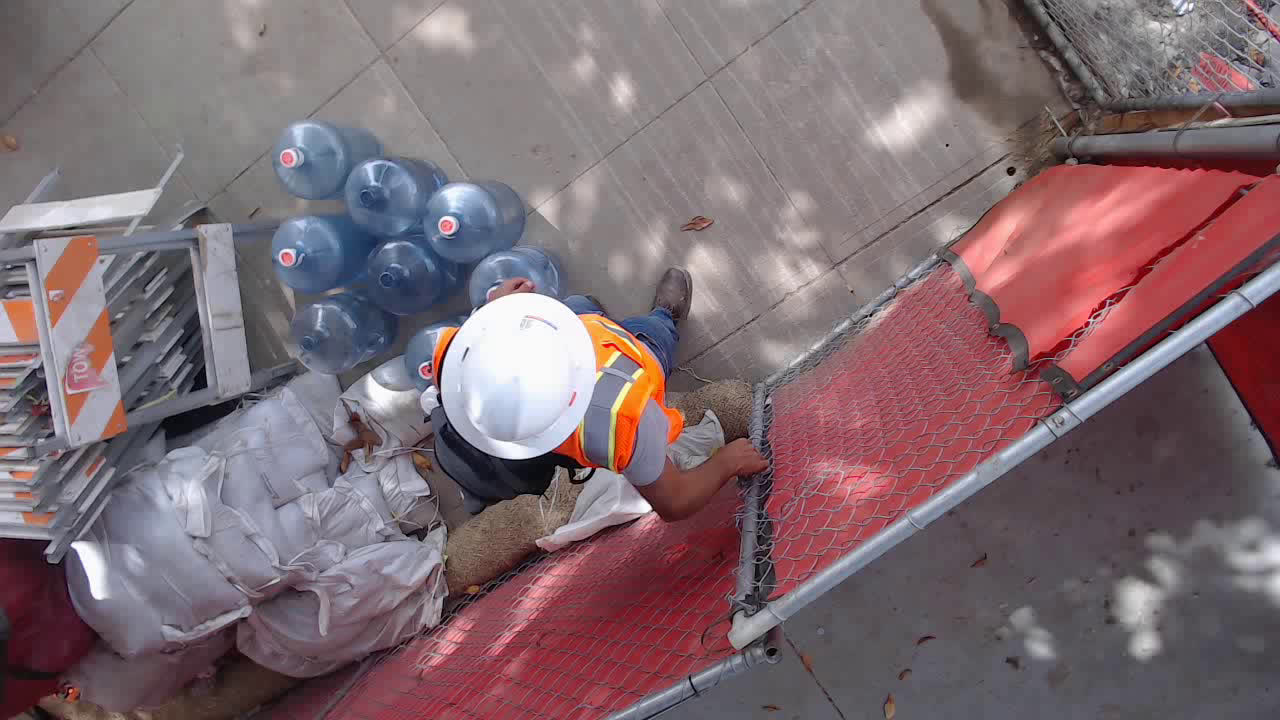hardhat: (441, 292, 592, 460)
safetyvest: (425, 318, 674, 488)
